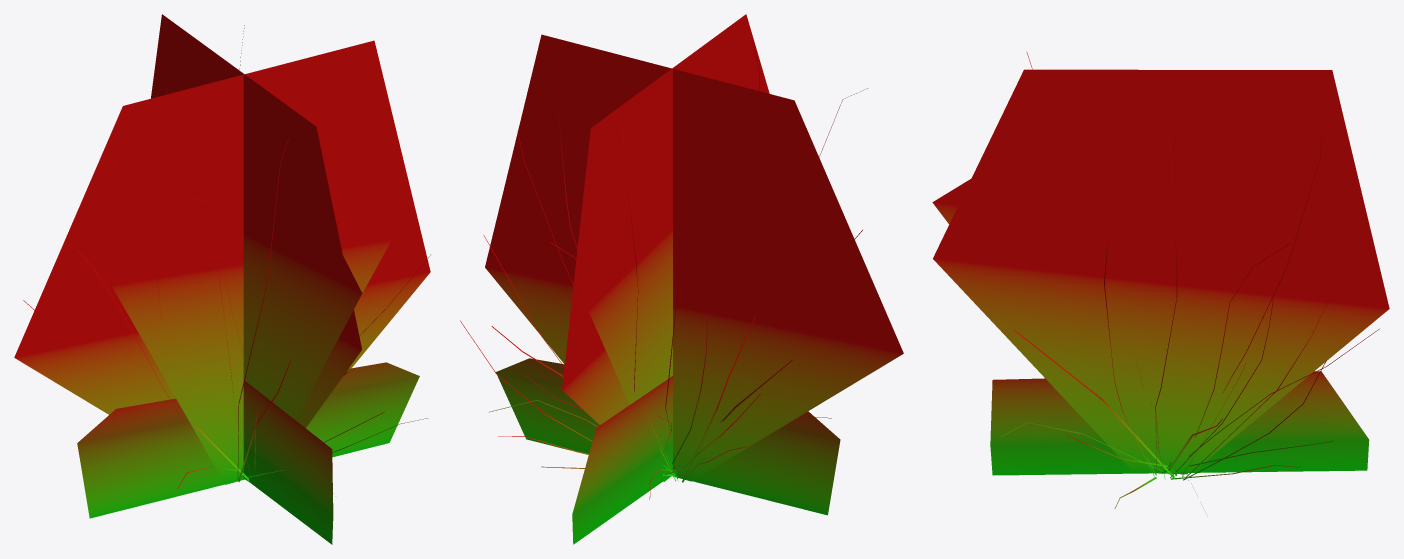
The model's file is Xeric Grass_LOD5_Var4_xjfgdhaqx.fbx.
3 renders of one model, left to right at view 1: azimuth 30°, elevation 25°; view 2: azimuth 150°, elevation 25°; view 3: azimuth 270°, elevation 25°, orthographic.
Visible parts, largest first — view 1: _t2bt_Var4_LOD5; view 2: _t2bt_Var4_LOD5; view 3: _t2bt_Var4_LOD5.
Boxes of the visible parts, box(x1,y1,x2,y2) form: _t2bt_Var4_LOD5: box(14, 14, 431, 544); _t2bt_Var4_LOD5: box(460, 14, 903, 544); _t2bt_Var4_LOD5: box(932, 52, 1389, 516).
Size of the model in its own units: 199 by 187 by 190.
